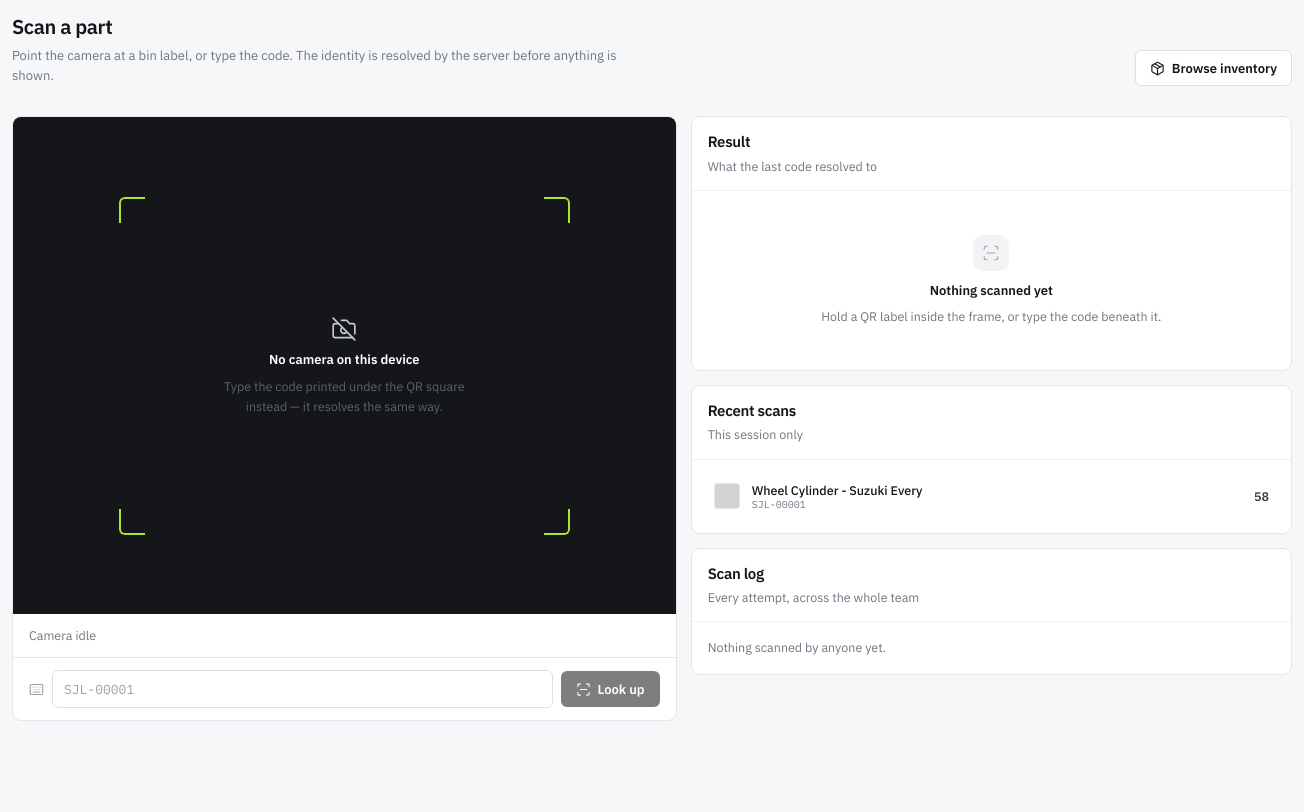
Test case: ScannerPage › shows the not-found state for a code with no matching part
Expected: the text "No camera on this device" is shown, top-left (269, 350), bottom-right (420, 369)
Step 1. Type "SJL-99999" into the field named "Enter a QR code manually" → [302, 689], box top-left (52, 670), bottom-right (552, 708)
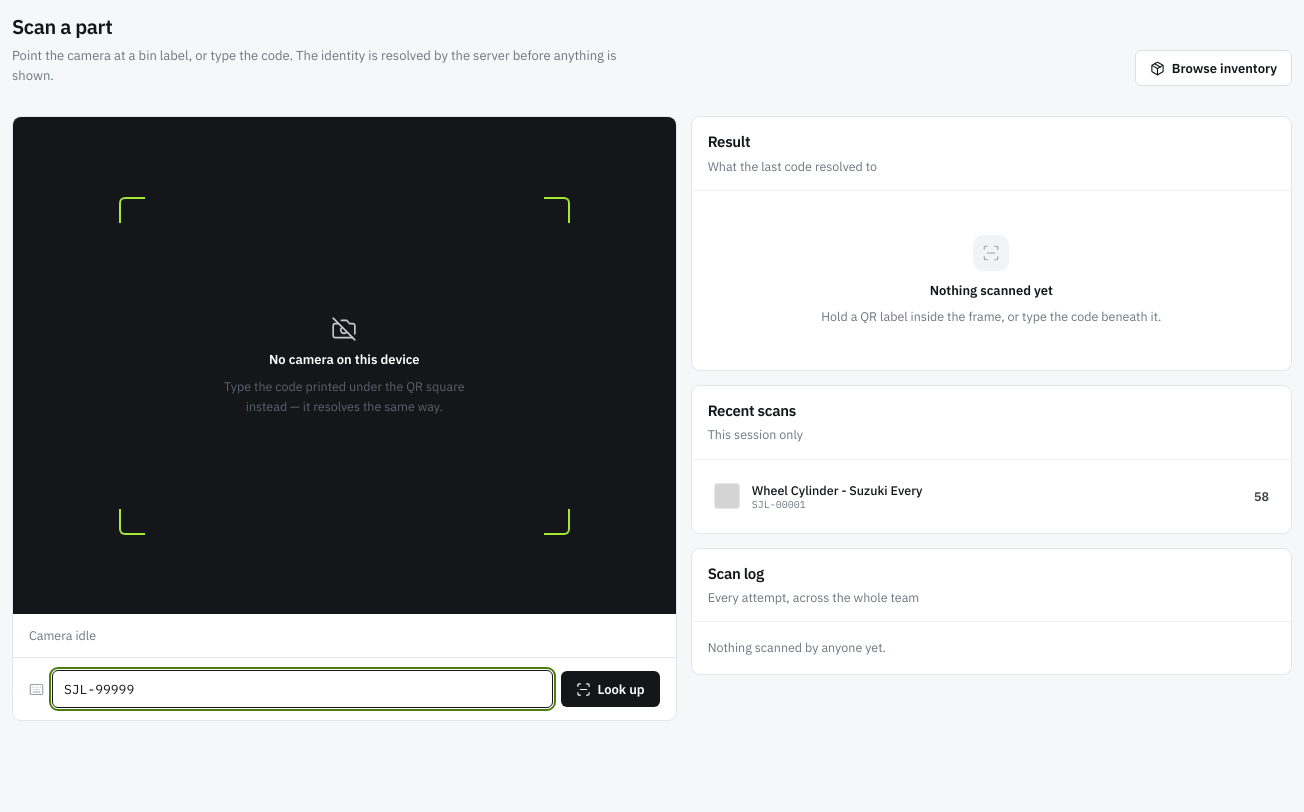
Step 2. Click the button "Look up" → [610, 689], box top-left (560, 671), bottom-right (660, 707)
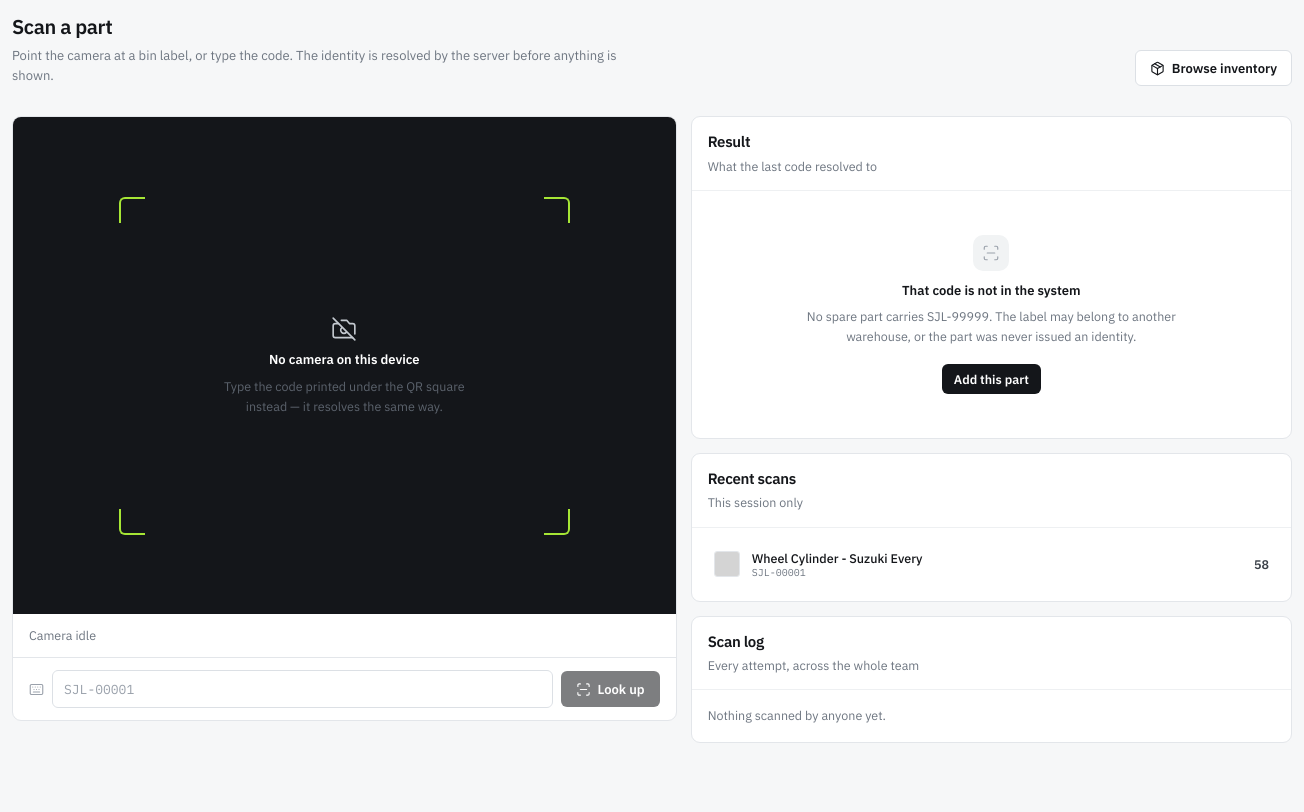
Expected: the text "That code is not in the system" is shown, top-left (902, 282), bottom-right (1081, 299)
Expected: the text "SJL-99999" is shown, top-left (807, 308), bottom-right (1176, 344)
